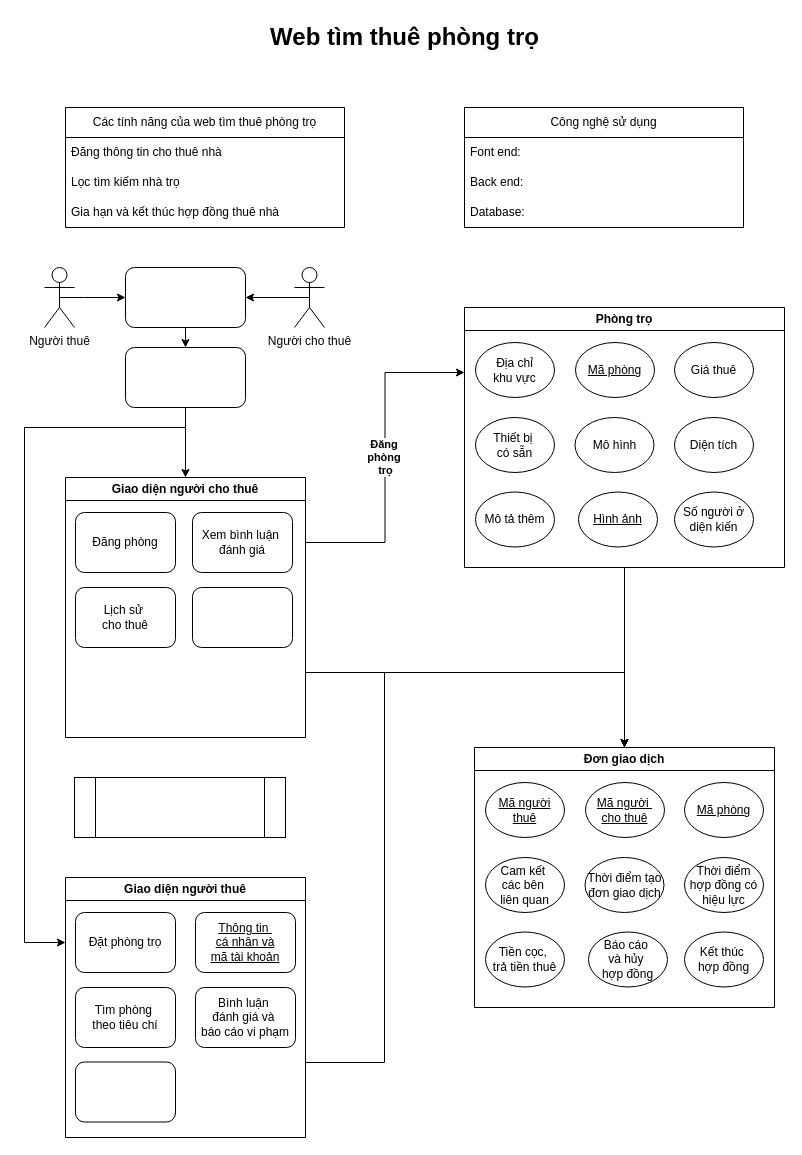
Image size: 802x1155. Some labels were removed from this diagram. Each missing label, with the centre of its shape:
"Lưu ý: giao diện người cho thuê và người thuê đều xuất hiện ở một tài khoản" belongs at pixel 180 807.
"Tạo tài khoản cá nhân" belongs at pixel 185 297.
"Đăng nhập" belongs at pixel 185 377.
